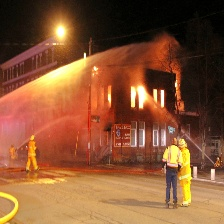fire: (129, 85, 167, 112)
